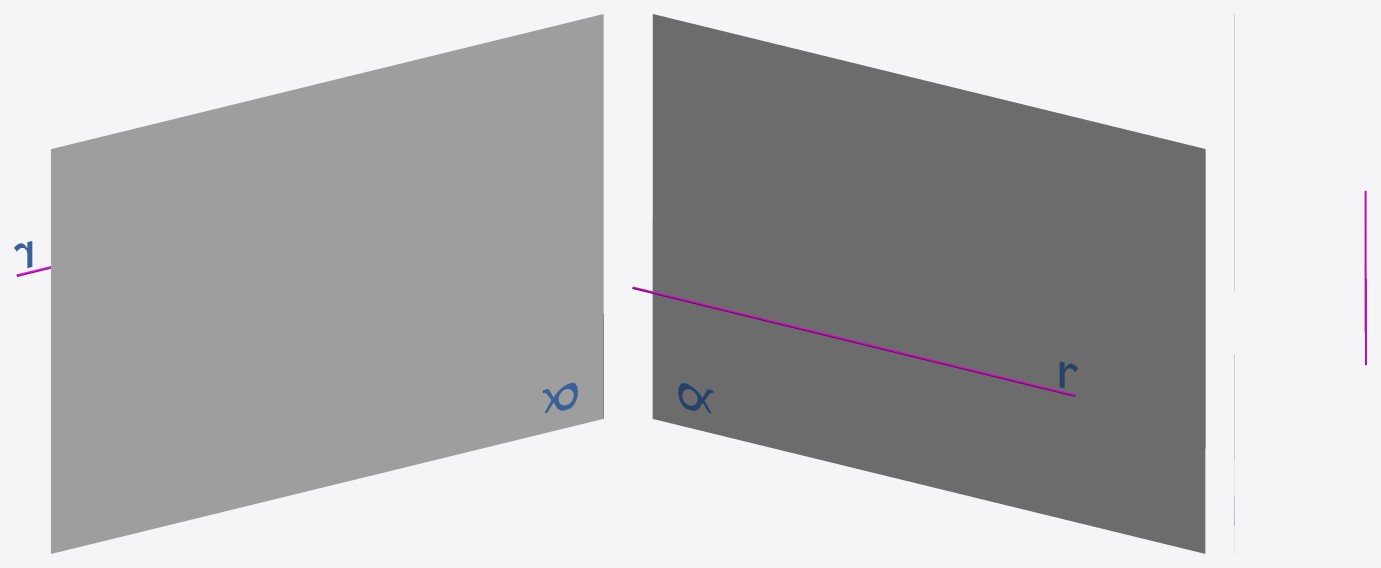
Rendered from ob2.1_reta_paralela_ao_plano.glb.
3 renders of one model, left to right at view 1: azimuth 30°, elevation 25°; view 2: azimuth 150°, elevation 25°; view 3: azimuth 270°, elevation 25°, orthographic. The views are drawn at different scales.
Parts seen in each view (by area): view 1: plano_ALFA_Box; view 2: plano_ALFA_Box, reta_r0_Cylinder; view 3: reta_r0_Cylinder, plano_ALFA_Box.
Boxes of the visible parts, left/top/right/bottom form: plano_ALFA_Box: left=51, top=14, right=603, bottom=553; plano_ALFA_Box: left=652, top=14, right=1205, bottom=553; reta_r0_Cylinder: left=632, top=286, right=1075, bottom=396; reta_r0_Cylinder: left=1364, top=190, right=1366, bottom=365; plano_ALFA_Box: left=1234, top=14, right=1234, bottom=553.
Bounding box in the file's own units: 10 × 7 × 2.6.
